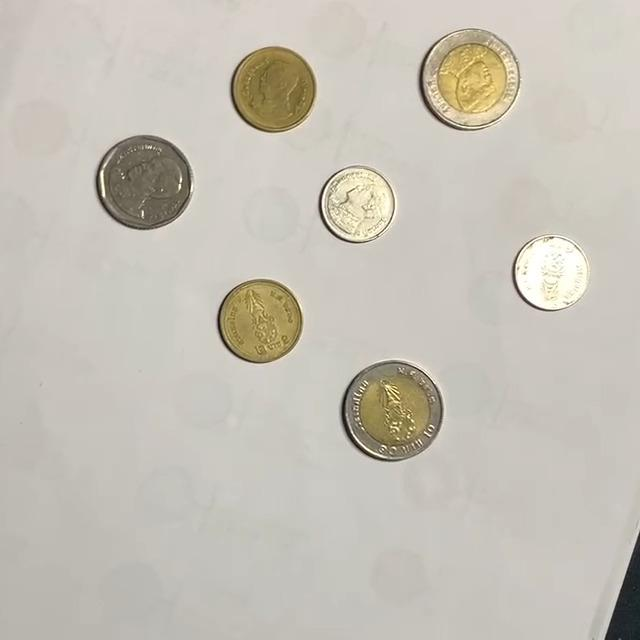1-baht: (319, 166, 398, 244), (513, 234, 592, 312)
10-baht: (421, 28, 522, 129), (343, 360, 445, 460)
2-baht: (232, 46, 318, 132), (219, 279, 304, 364)
5-baht: (97, 134, 195, 229)
